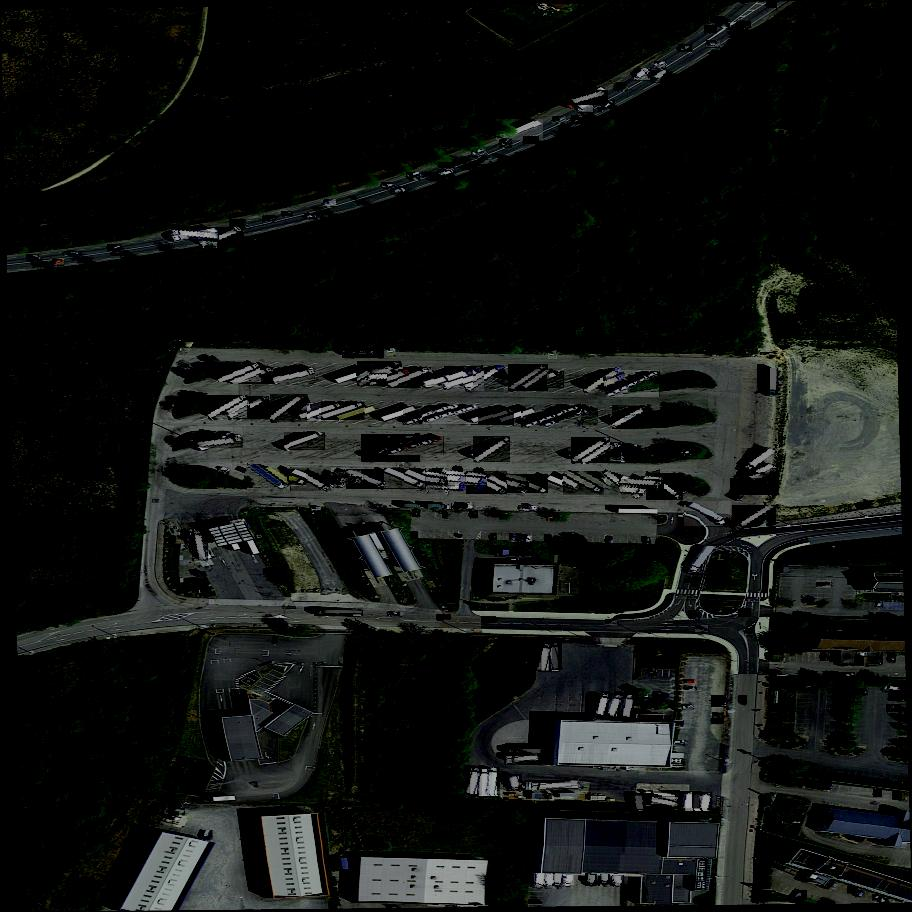large-vehicle: (362, 433, 420, 463), (606, 369, 660, 399), (521, 403, 581, 430), (684, 499, 731, 530), (732, 504, 776, 535), (603, 469, 643, 501), (423, 405, 478, 427), (358, 360, 401, 388), (646, 471, 684, 502), (270, 394, 309, 424), (248, 464, 288, 493), (584, 367, 624, 396), (404, 405, 459, 426), (563, 470, 605, 497), (571, 436, 610, 465), (509, 364, 548, 393), (465, 365, 504, 394), (497, 118, 543, 142), (389, 436, 444, 456), (292, 466, 332, 493), (445, 366, 485, 393), (473, 435, 510, 464), (228, 395, 269, 421), (466, 470, 507, 496), (612, 405, 653, 431), (387, 366, 431, 390), (209, 395, 248, 421), (218, 361, 261, 384), (200, 227, 244, 249), (542, 409, 598, 426), (346, 469, 389, 491), (742, 447, 777, 474), (580, 442, 621, 465), (688, 544, 716, 577), (730, 478, 778, 497), (385, 468, 426, 490), (423, 370, 473, 388), (506, 473, 548, 494), (739, 463, 778, 485), (263, 468, 307, 487), (321, 402, 365, 421), (521, 372, 564, 391), (505, 743, 553, 760), (285, 432, 325, 452), (230, 367, 273, 385), (301, 403, 341, 422), (471, 408, 514, 425), (566, 89, 608, 106), (486, 475, 528, 491), (272, 369, 315, 383), (532, 781, 580, 793), (504, 754, 552, 766), (197, 437, 243, 449), (604, 694, 624, 721), (443, 475, 487, 487), (406, 474, 449, 486), (193, 528, 208, 562), (594, 693, 611, 722), (546, 643, 563, 672), (465, 767, 482, 795), (424, 474, 465, 485), (538, 642, 553, 672), (486, 767, 501, 797), (171, 231, 218, 240), (620, 694, 635, 722), (342, 349, 384, 359), (620, 479, 663, 488), (477, 769, 490, 797), (651, 797, 680, 809), (653, 791, 681, 803), (313, 477, 348, 486), (368, 374, 411, 381), (314, 610, 363, 616), (331, 475, 363, 484), (633, 792, 647, 812), (507, 774, 523, 791), (681, 792, 695, 811), (701, 792, 714, 812), (635, 68, 651, 84), (579, 100, 594, 115), (533, 873, 545, 889), (454, 503, 475, 512), (793, 889, 807, 902), (543, 874, 555, 889), (771, 369, 778, 394), (563, 874, 575, 888), (429, 504, 451, 511), (586, 874, 597, 886), (203, 829, 213, 841), (693, 794, 701, 808), (612, 876, 623, 885), (554, 875, 563, 886), (600, 875, 609, 884), (519, 506, 538, 510)
small-vehicle: (651, 68, 669, 85), (619, 445, 641, 455), (229, 219, 246, 231), (602, 98, 615, 112), (614, 80, 627, 94), (472, 147, 487, 159), (738, 607, 751, 620), (571, 114, 585, 126), (716, 19, 731, 30), (437, 170, 455, 179), (499, 138, 512, 150), (704, 24, 717, 36), (478, 156, 492, 167), (707, 39, 721, 50), (851, 688, 868, 697), (737, 20, 751, 30), (678, 44, 692, 54), (524, 136, 539, 145), (883, 686, 902, 693), (848, 885, 859, 897), (324, 199, 337, 209), (169, 808, 185, 816), (710, 16, 724, 25), (552, 116, 566, 125), (407, 173, 421, 182), (766, 0, 777, 11), (879, 895, 890, 906), (873, 893, 884, 904), (482, 616, 497, 624), (107, 244, 122, 252), (886, 705, 901, 713), (855, 888, 865, 900), (696, 625, 709, 634), (816, 581, 832, 588), (711, 696, 725, 704), (52, 259, 64, 268), (654, 61, 666, 70), (218, 466, 231, 474), (509, 533, 519, 543), (798, 684, 812, 691), (681, 703, 695, 710), (840, 672, 856, 678), (159, 244, 171, 252), (169, 805, 182, 812), (828, 706, 841, 713), (887, 654, 897, 663), (893, 791, 902, 801), (648, 667, 657, 677), (392, 188, 407, 194), (604, 535, 614, 544), (437, 615, 451, 621), (712, 712, 724, 719), (413, 509, 422, 518), (874, 789, 883, 798), (654, 691, 663, 700), (738, 695, 747, 704), (889, 692, 902, 698), (711, 718, 724, 724), (689, 611, 700, 618), (382, 183, 394, 189), (606, 620, 618, 626), (643, 537, 651, 546), (711, 702, 724, 707), (304, 214, 317, 219), (438, 163, 454, 167), (471, 510, 479, 518), (263, 217, 275, 222), (683, 686, 695, 691), (820, 653, 828, 660), (524, 536, 532, 543), (27, 255, 38, 260), (528, 900, 539, 905), (684, 679, 695, 684), (674, 741, 685, 746), (746, 628, 753, 635), (546, 513, 554, 519), (517, 534, 524, 540), (282, 211, 292, 215), (113, 252, 126, 255), (388, 612, 400, 615), (411, 532, 417, 538), (545, 535, 551, 541), (877, 602, 882, 608), (491, 534, 497, 539), (63, 253, 76, 255)
